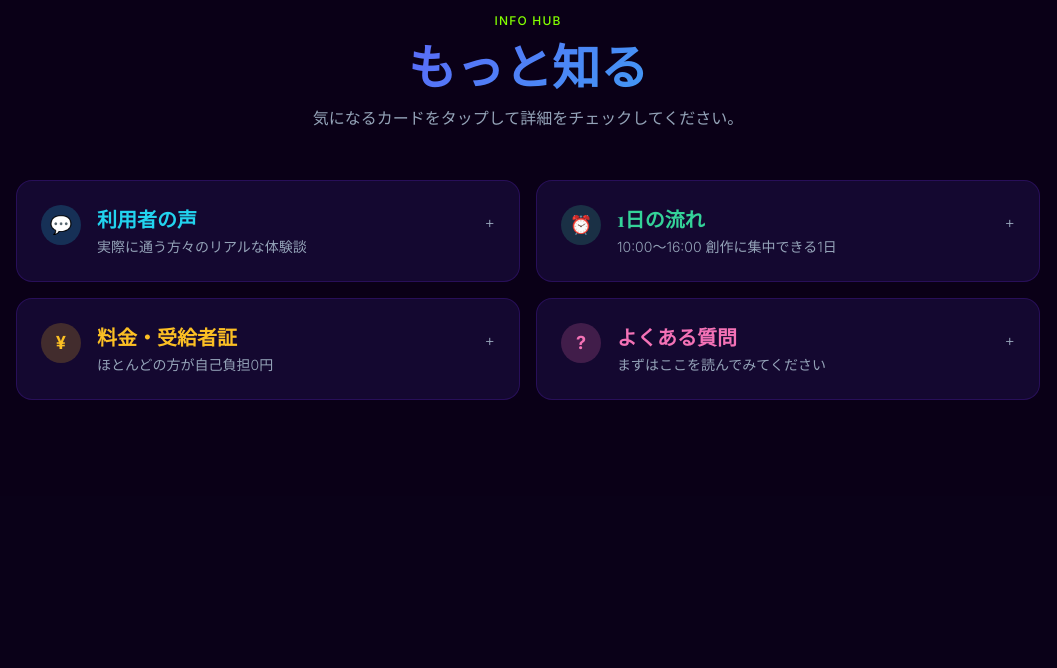
InfoHubSection › clicking a card expands it and shows content
Click the button "💬 利用者の声 実際に通う方々のリアルな体験談 +" at (61, 225), box [17, 181, 519, 281]
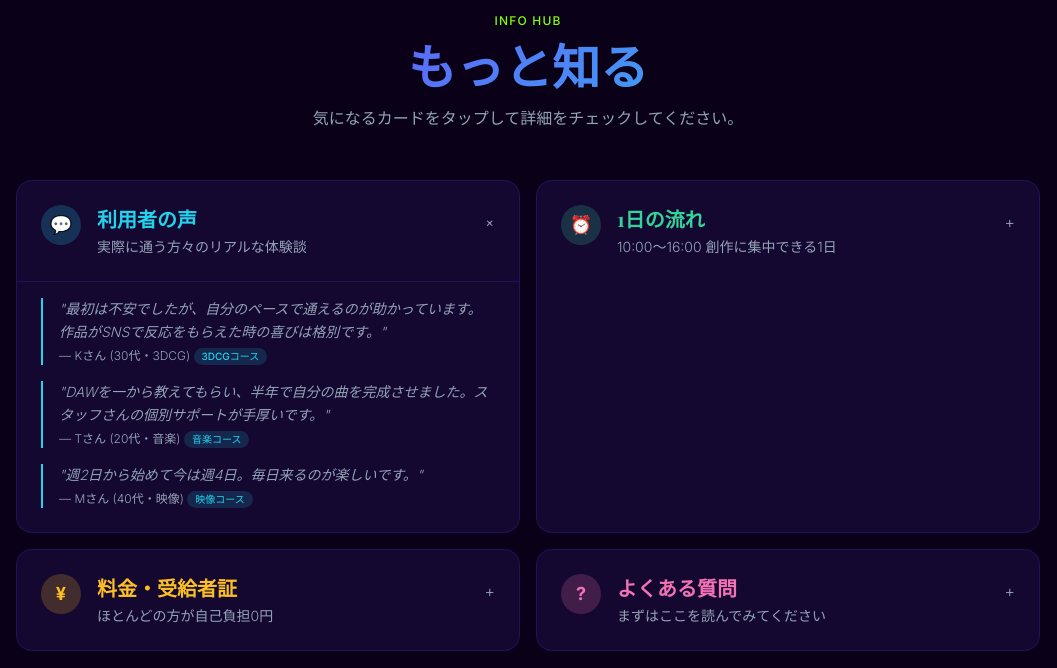
Expected: the button "💬 利用者の声 実際に通う方々のリアルな体験談 +" is expanded, [17, 181, 519, 281]
